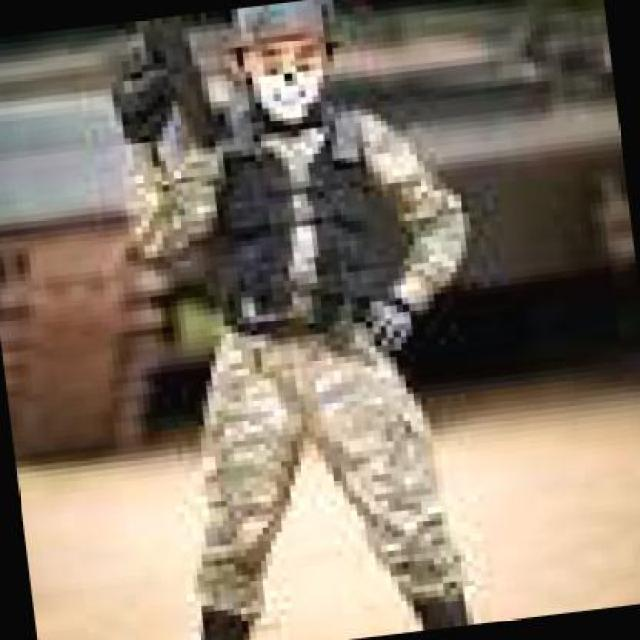MIL_Pax: (103, 0, 524, 638)
